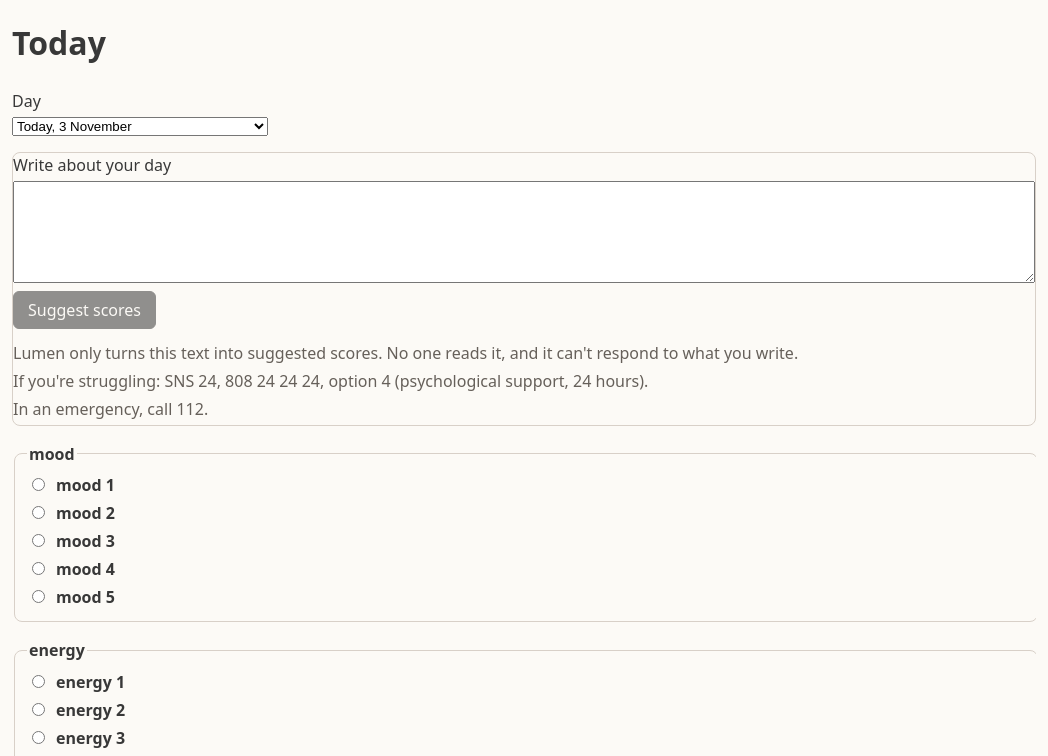
free text › AC-11: never overwrites a choice, even one made while waiting for the model
Type "marker_note slept badly, stressful meeting" into the text box labelled "Write about your day".
click(524, 232); type("marker_note slept badly, stressful meeting")  # box [13,181,1035,283]
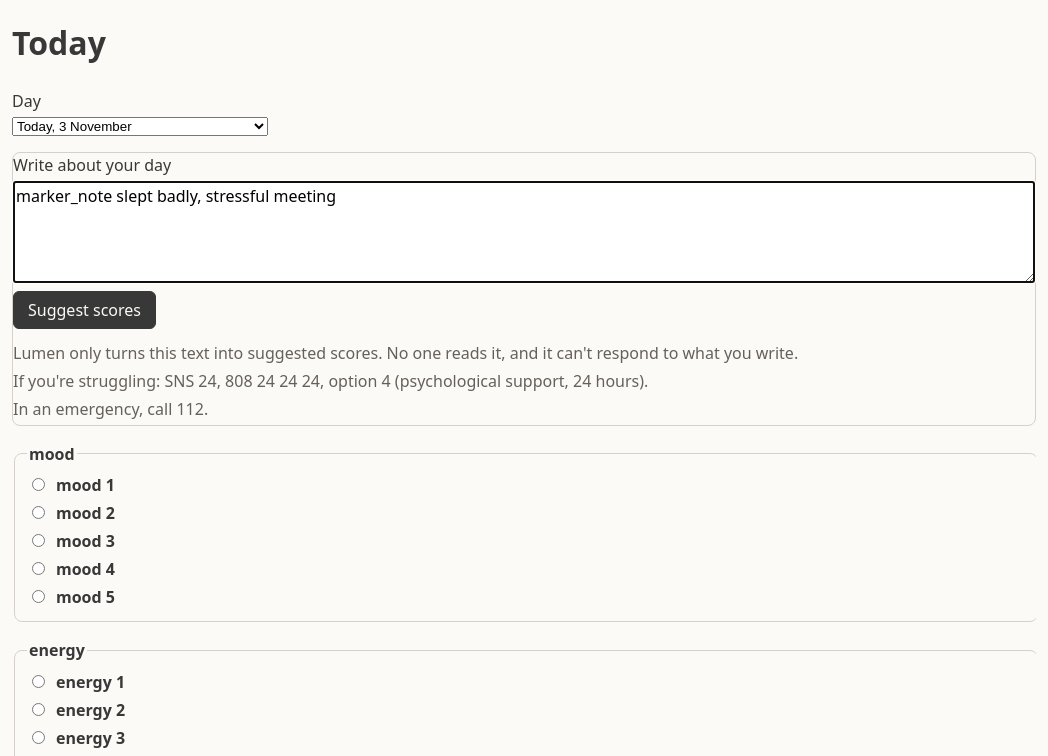
Click the radio button labelled "mood 5".
click(38, 597)  # box [32,590,45,604]
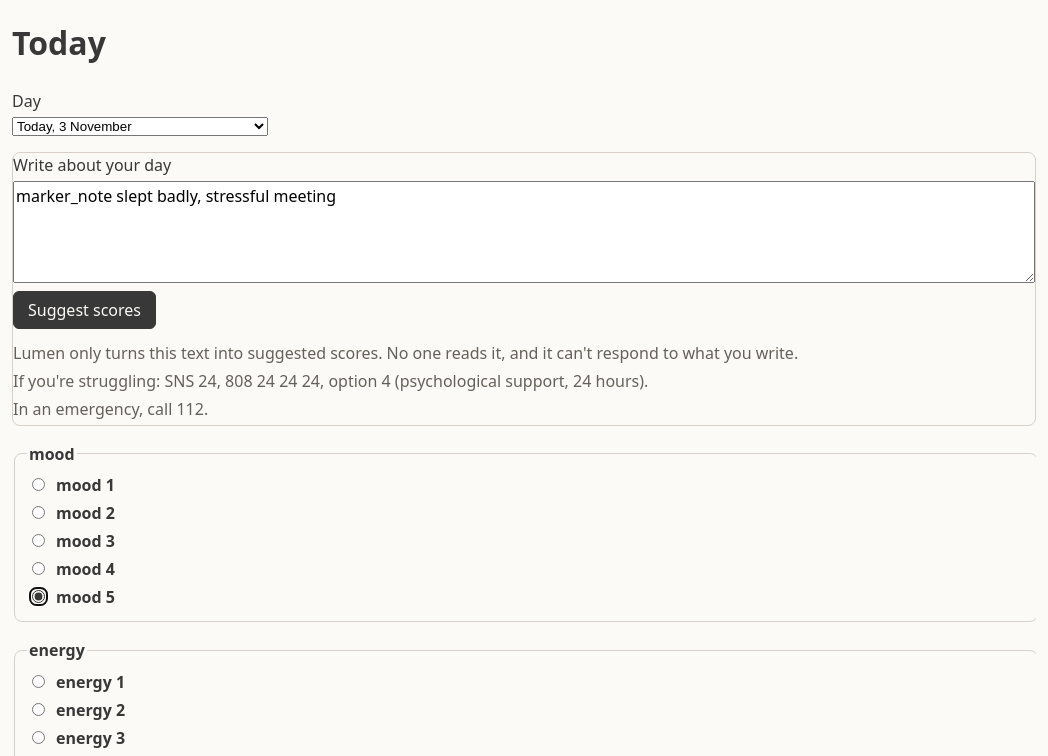
Click the button "Suggest scores".
click(84, 310)  # box [13,291,156,329]
(page scrolled)
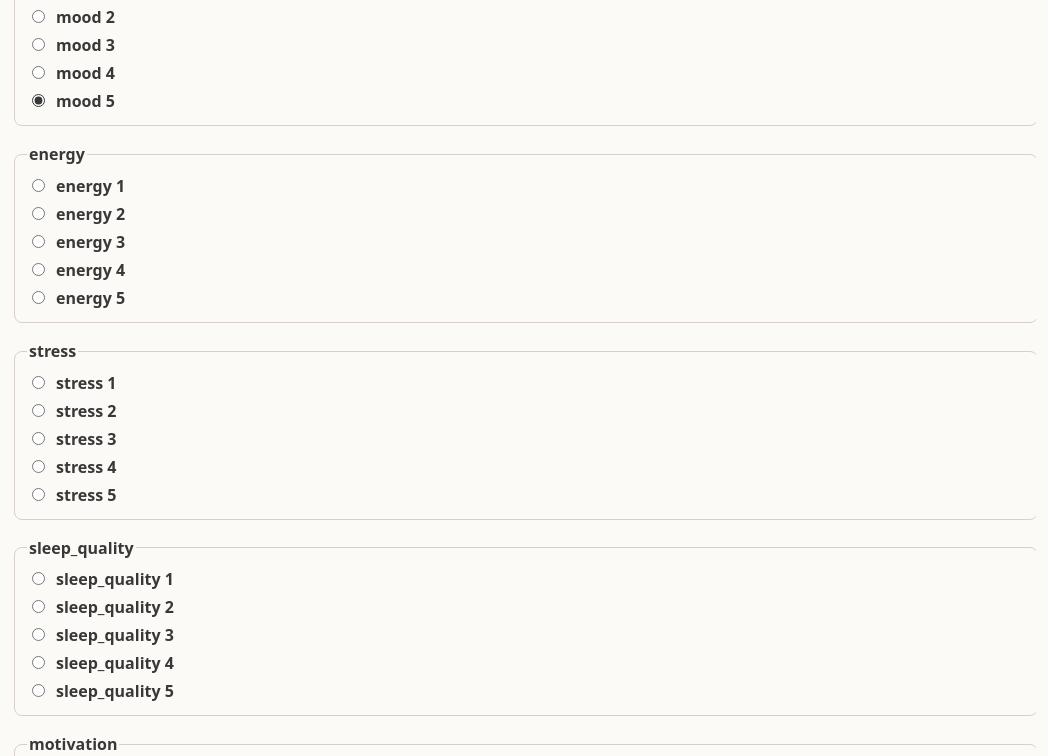
Click the radio button labelled "stress 1".
click(38, 382)  # box [32,376,45,389]
(page scrolled)
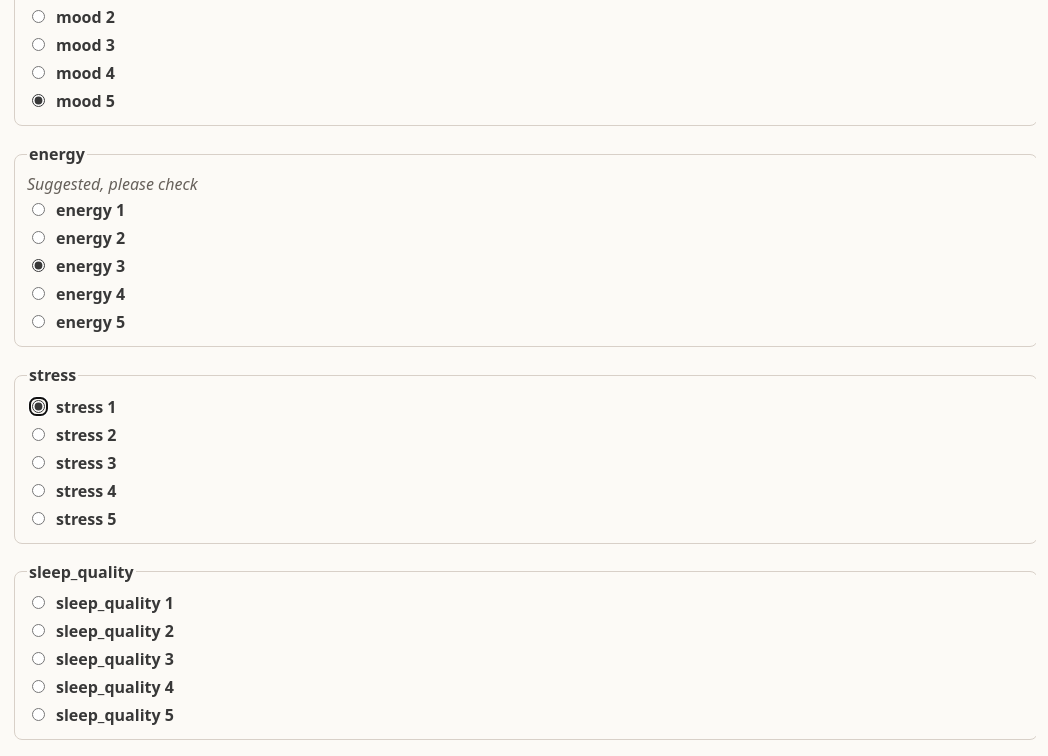
Result: the text "Suggested, please check" is shown at [27,173,198,195]
